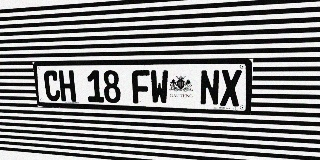1: (86, 70, 104, 102)
8: (103, 70, 121, 103)
C: (43, 70, 61, 101)
F: (132, 70, 150, 104)
H: (58, 70, 76, 102)
N: (200, 70, 220, 106)
W: (150, 70, 169, 104)
X: (220, 70, 242, 106)
